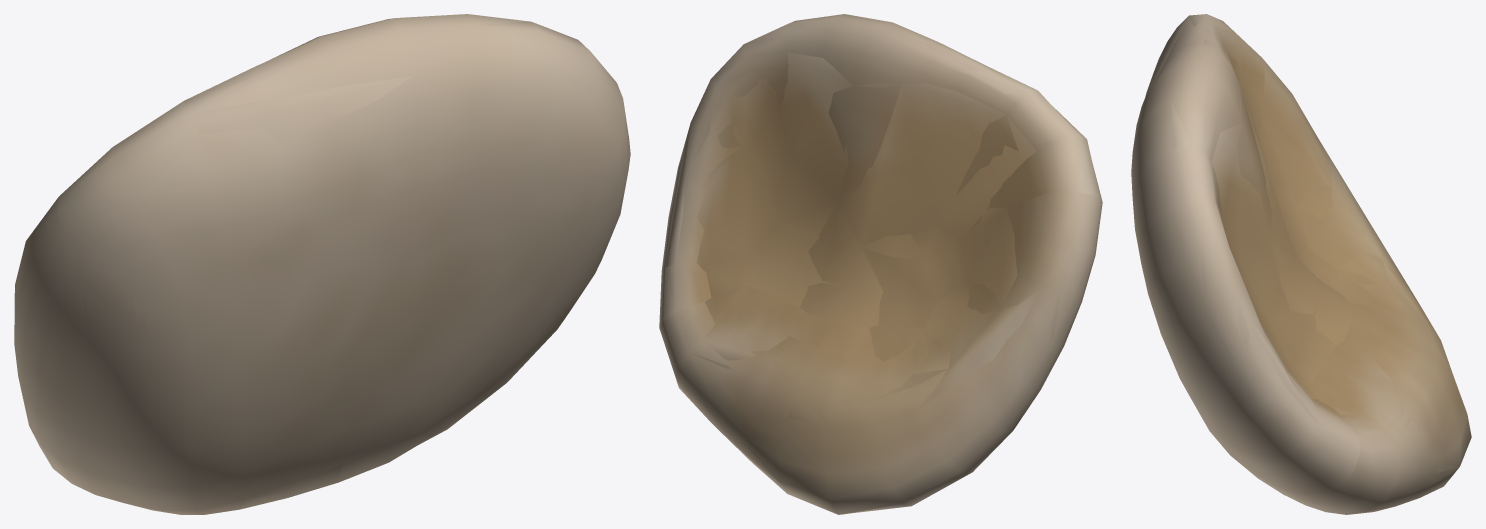
Rendered from L Patella.fbx.
3 renders of one model, left to right at view 1: azimuth 30°, elevation 25°; view 2: azimuth 150°, elevation 25°; view 3: azimuth 270°, elevation 25°, orthographic. The views are drawn at different scales.
Visible parts, largest first — view 1: L Patella, L Patella low; view 2: L Patella, L Patella low; view 3: L Patella, L Patella low.
Part boxes in pixels (box(x1,y1,x2,y2)): L Patella: box(14, 14, 630, 514); L Patella low: box(14, 21, 541, 499); L Patella: box(659, 14, 1102, 514); L Patella low: box(665, 14, 1072, 513); L Patella: box(1131, 14, 1471, 514); L Patella low: box(1150, 14, 1459, 496).
Bounding box in the file's own units: 6.88 × 6.19 × 4.33.
1 material, 1 textured.
